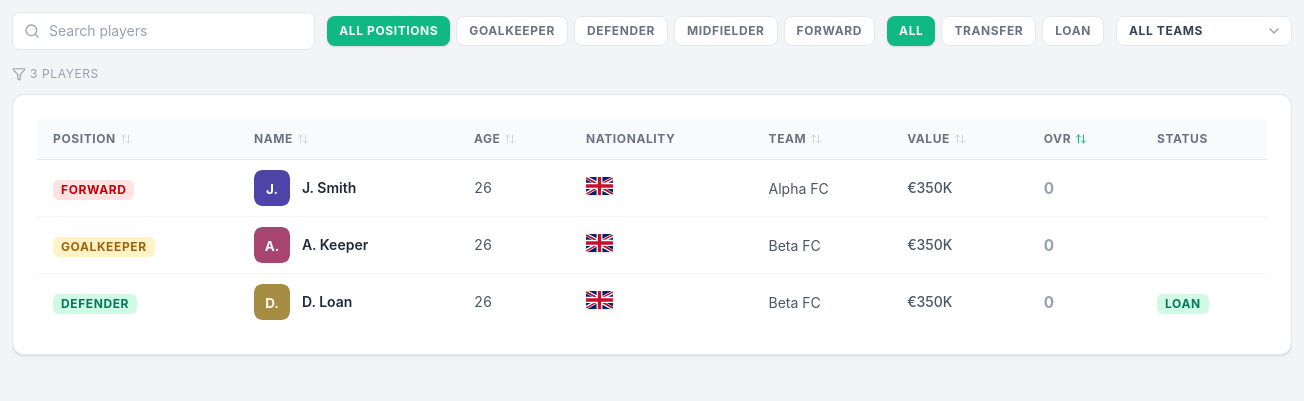
Scenario: PlayersListTab › shows scout assignment errors inline
Expected: the text "A. Keeper" is shown, [302, 236, 368, 253]
Right-click the text "A. Keeper" at x=652, y=245, box [37, 216, 1267, 274]
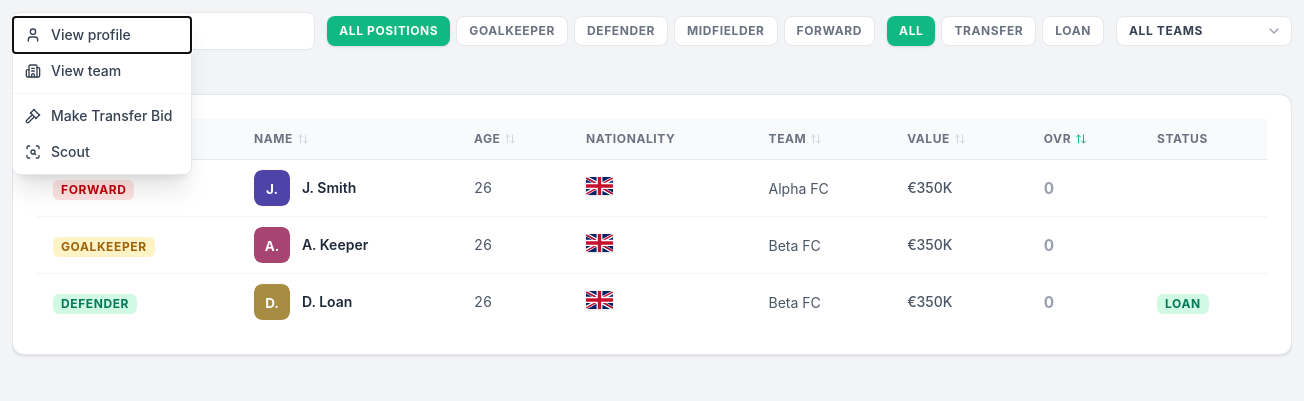
Click the menu item "Scout" at x=102, y=152, box [13, 134, 191, 170]
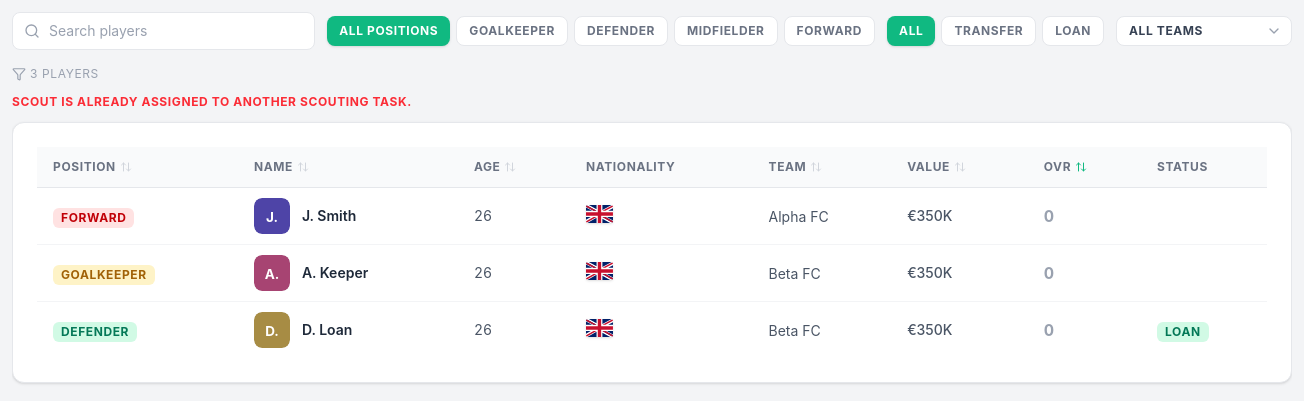
Result: the message reads "Scout is already assigned to another scouting task." at [12, 94, 412, 109]
